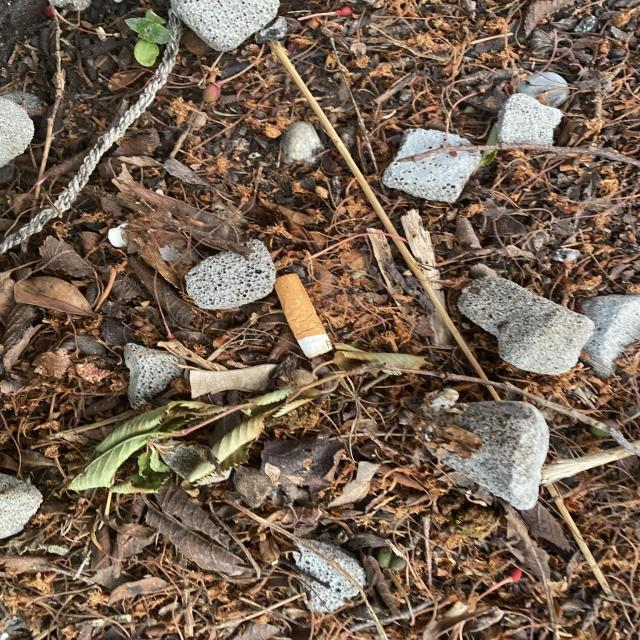other waste: (273, 273, 334, 359)
